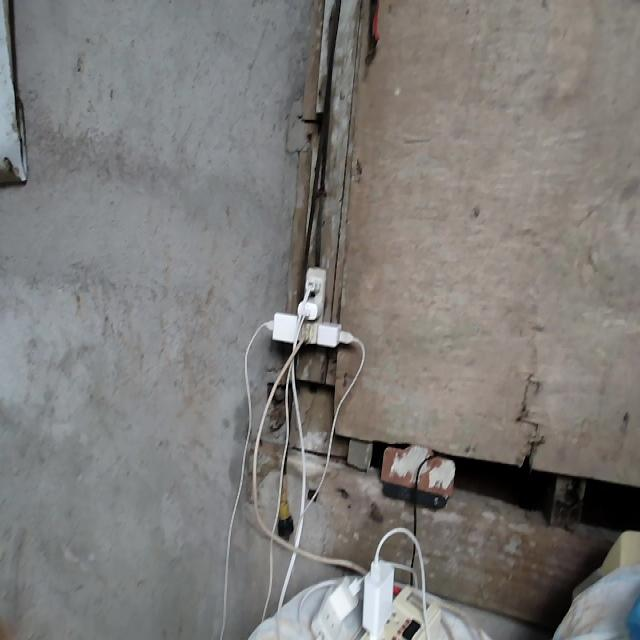-: (263, 262, 352, 350)
